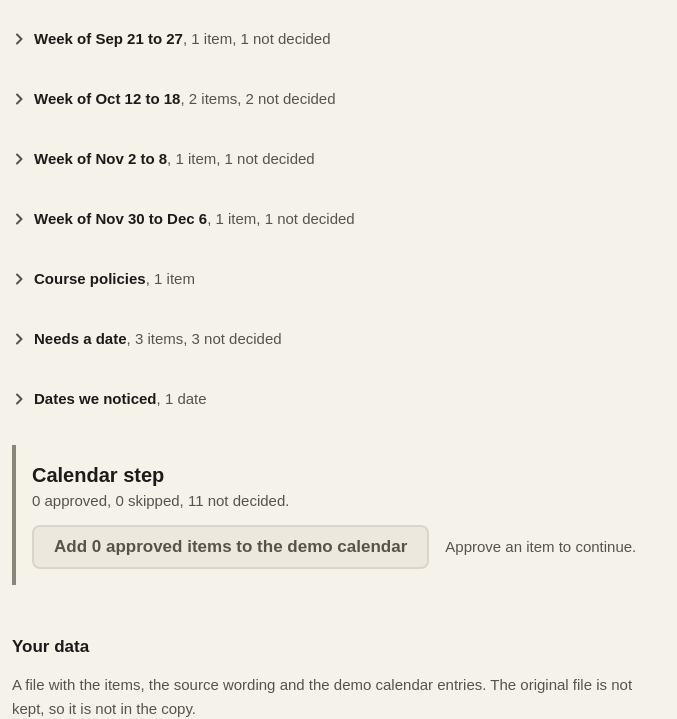
Test: Dates we noticed: the quote fallbacks (checklist 4) › offsets that disagree with the line: the date as its own quote, then 'The line around it:' and the line; no bold
(page scrolled)
Click the button "Dates we noticed, 1 date".
click(95, 398)  # box [12,377,655,421]
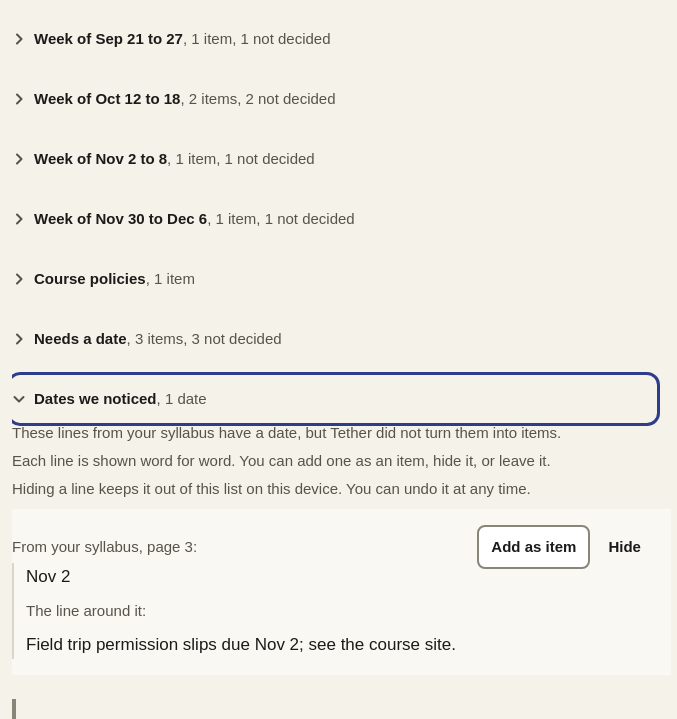
Expected: the text "The line around it:" is shown, [26,602,146,619]
